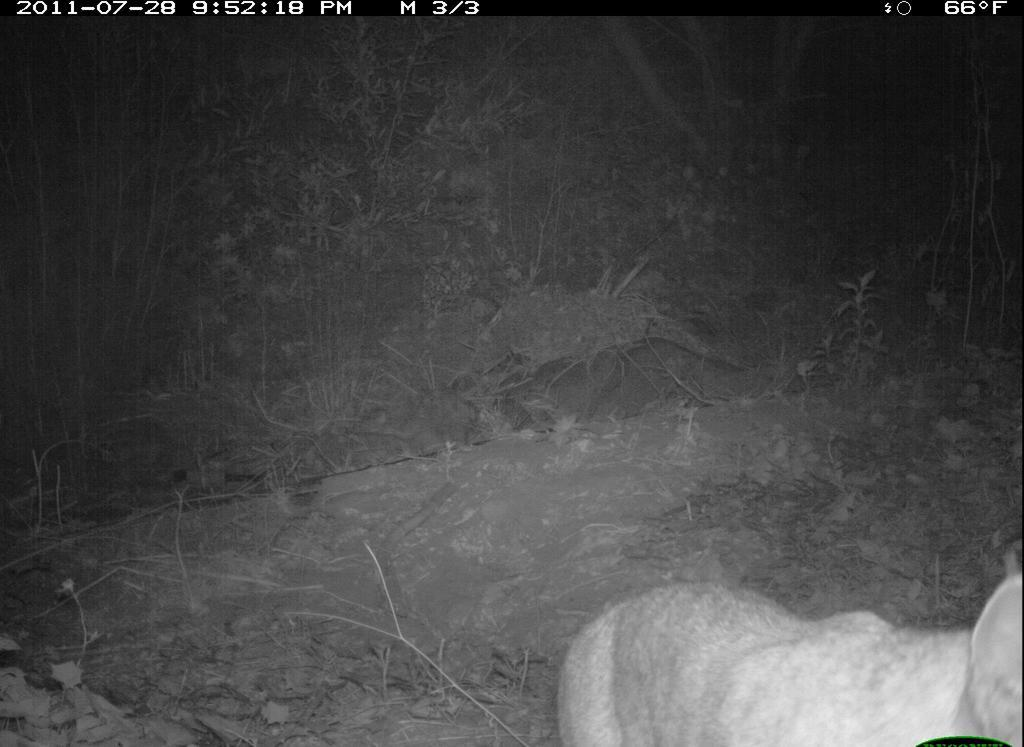bobcat: (545, 555, 1023, 747)
